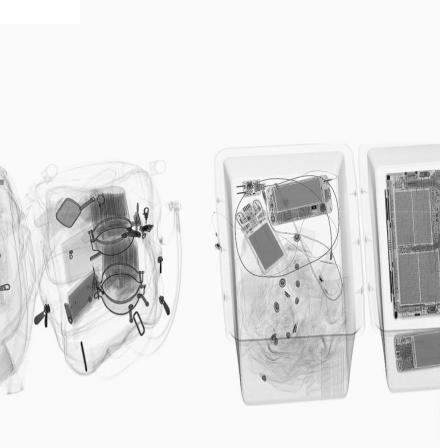Powerbank: (236, 201, 287, 273)
